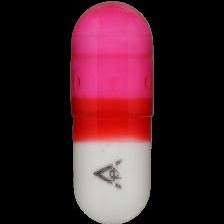69206-995: (0, 0, 224, 224)
